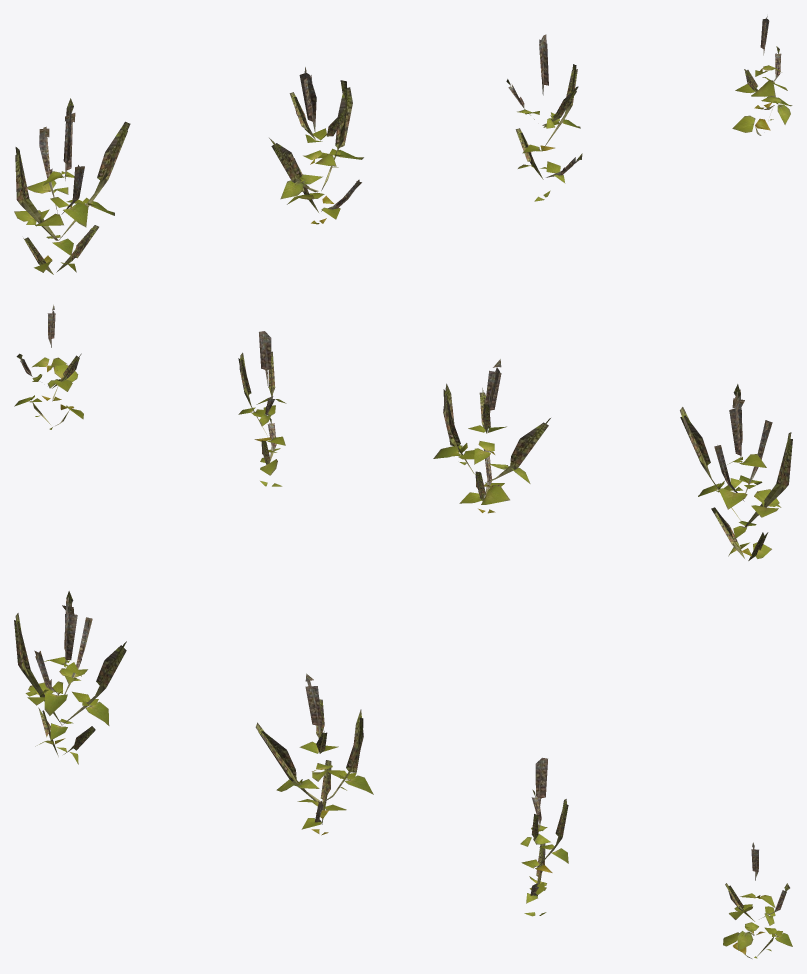
The model's file is shrub_03_c.glb.
3 renders of one model, top to bottom at view 1: azimuth 30°, elevation 25°; view 2: azimuth 150°, elevation 25°; view 3: azimuth 330°, elevation 25°, orthographic. The views are drawn at different scales.
Parts seen in each view (by area): view 1: shrub_03; view 2: shrub_03; view 3: shrub_03.
Boxes of the visible parts, x1=… form: shrub_03: x1=14, y1=16, x2=792, y2=274; shrub_03: x1=14, y1=304, x2=792, y2=560; shrub_03: x1=14, y1=591, x2=792, y2=958.
Size of the model in its own units: 1.36 by 0.3634 by 0.1512.
Materials: 1 (1 with a texture image).
